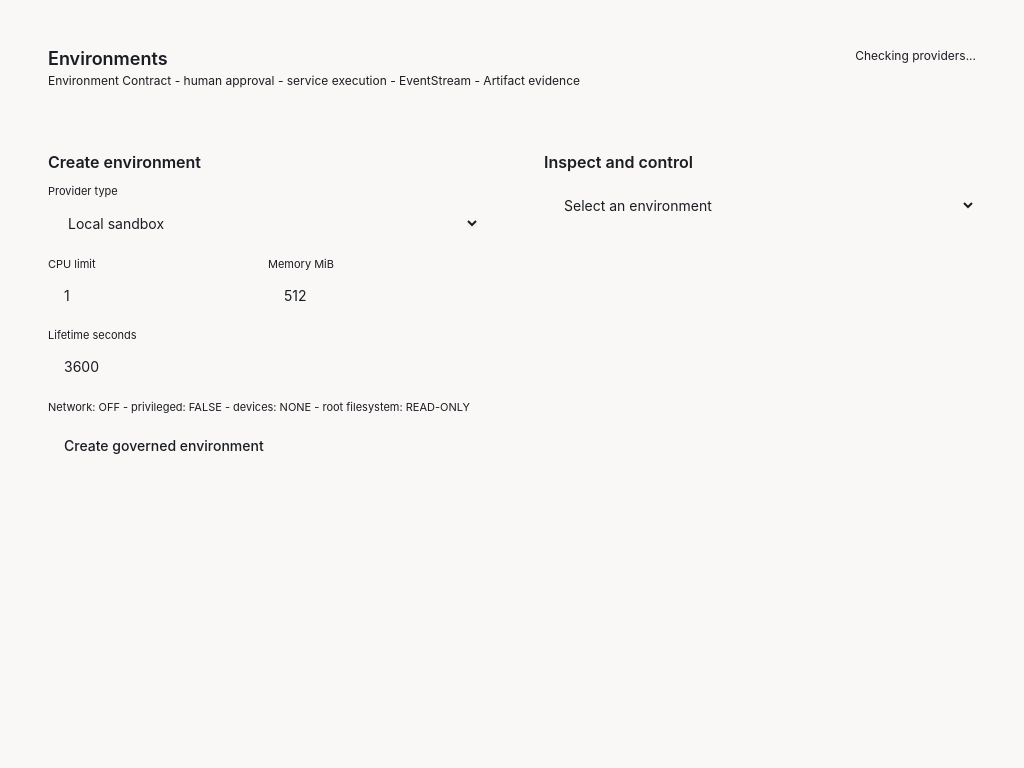
Scenario: environment inspector › denies the original request without executing it
Click the button "Create governed environment".
click(164, 445)  # box left=48, top=429, right=280, bottom=462
(page scrolled)
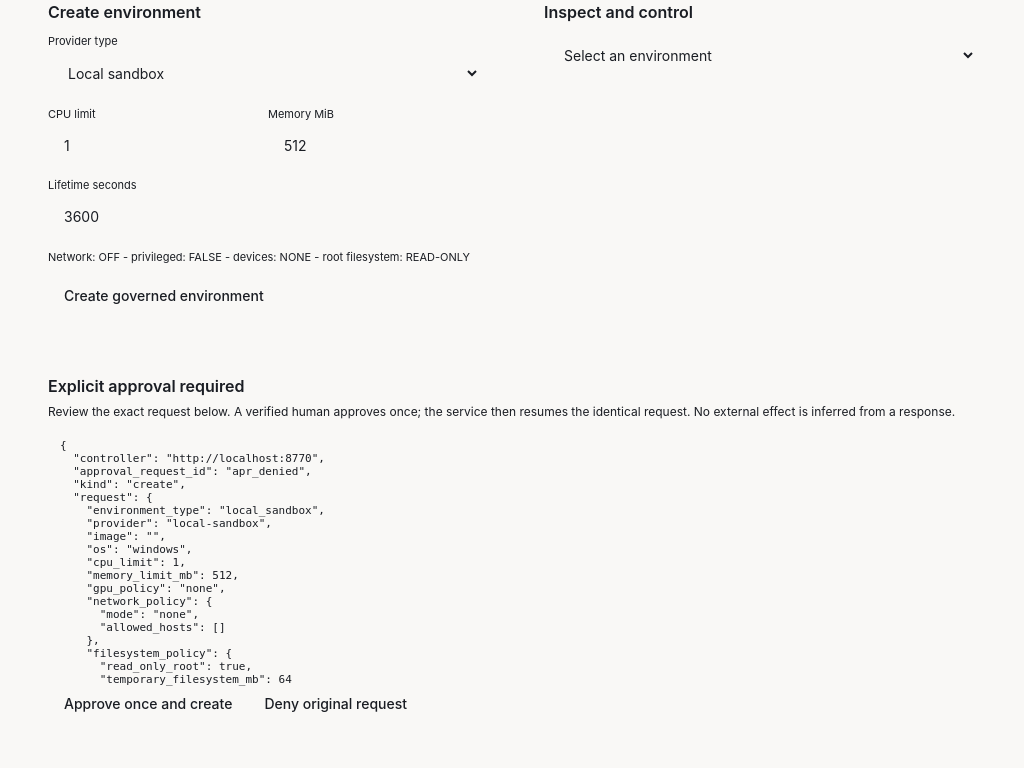
Expected: the text "Explicit approval required" is shown, left=48, top=376, right=244, bottom=396
Click the button "Deny original request".
click(336, 703)  # box left=248, top=687, right=423, bottom=720
(page scrolled)
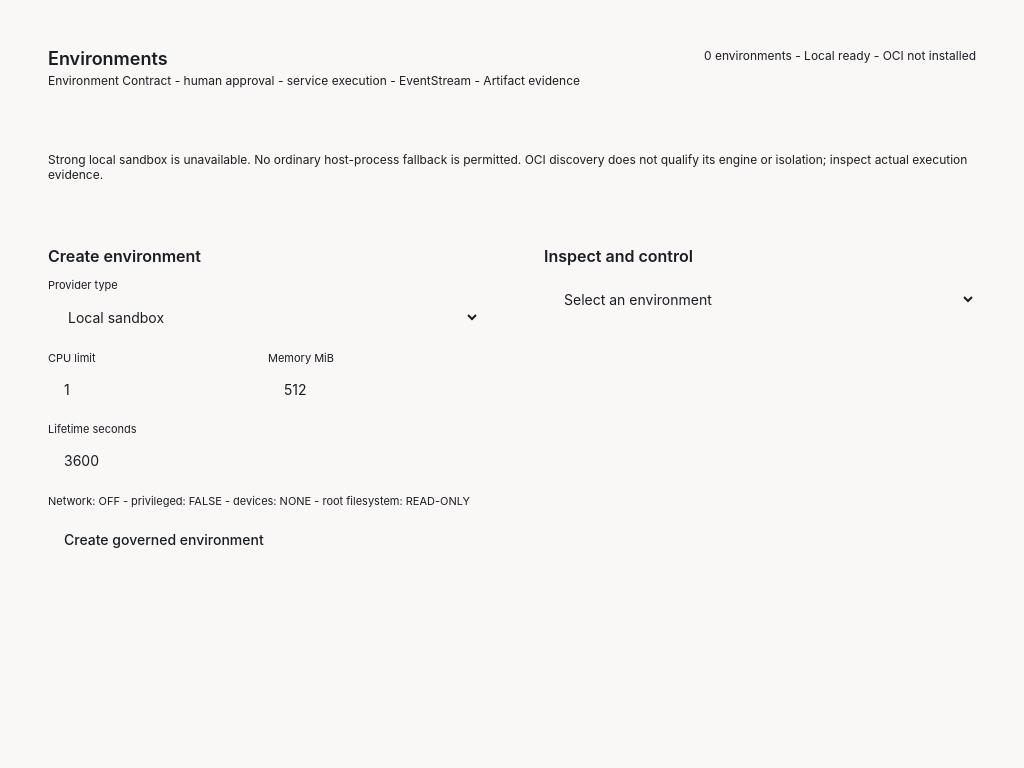
Expected: the text "Explicit approval required" is gone
